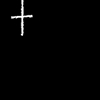single_crochet: (12, 0, 31, 34)
